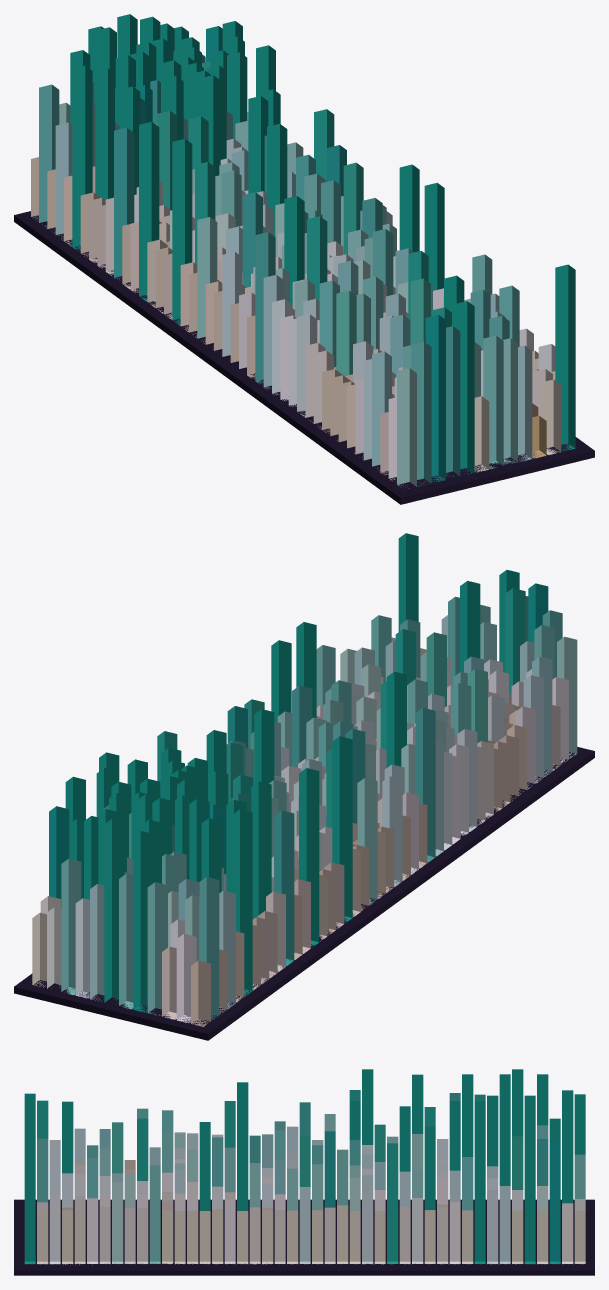
File: sundarbans.glb
3 renders of one model, top to bottom at view 1: azimuth 30°, elevation 25°; view 2: azimuth 150°, elevation 25°; view 3: azimuth 270°, elevation 25°, orthographic. The views are drawn at different scales.
Parts seen in each view (by area): view 1: g4, base, g1, g6, g13, g7, g11, g8, g3, g43, g27, g2 (+21 smaller); view 2: g4, base, g6, g13, g8, g1, g11, g7, g3, g27, g10, g43 (+21 smaller); view 3: g4, base, g5, g15, g27, g10, g11, g21, g6, g7, g33, g16 (+19 smaller).
Boxes of the visible parts, box(x1,y1,x2,y2) form: g4: box(70, 14, 575, 474); base: box(14, 211, 594, 504); g1: box(39, 84, 509, 486); g6: box(92, 82, 503, 468); g13: box(31, 157, 354, 442); g7: box(115, 120, 517, 464); g11: box(140, 98, 451, 340); g8: box(55, 122, 532, 461); g3: box(255, 198, 460, 476); g43: box(114, 54, 262, 287); g27: box(222, 112, 432, 460); g2: box(134, 26, 445, 481); g4: box(65, 533, 519, 1012); base: box(14, 747, 594, 1040); g6: box(61, 605, 554, 1015); g13: box(191, 705, 521, 1026); g8: box(90, 615, 534, 1008); g1: box(199, 596, 562, 1020); g11: box(157, 588, 525, 827); g7: box(127, 622, 496, 904); g3: box(292, 596, 528, 862); g27: box(224, 675, 543, 890); g10: box(176, 677, 568, 1022); g43: box(172, 728, 365, 965); g4: box(24, 1069, 585, 1264); base: box(14, 1199, 594, 1275); g5: box(37, 1205, 585, 1264); g15: box(37, 1164, 448, 1264); g27: box(74, 1126, 510, 1264); g10: box(87, 1172, 460, 1264); g11: box(37, 1090, 485, 1264); g21: box(49, 1145, 523, 1264); g6: box(149, 1131, 585, 1263); g7: box(99, 1114, 423, 1210); g33: box(174, 1132, 498, 1264); g16: box(49, 1134, 498, 1207).
Bounding box in the file's own units: 0.182 × 0.166 × 0.6275.
